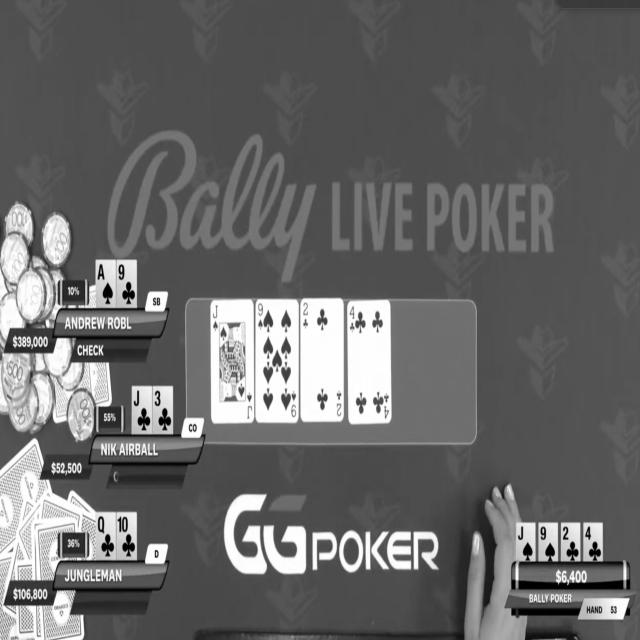10C: (117, 514, 136, 559)
2C: (562, 523, 580, 561)
3C: (154, 387, 172, 433)
4C: (584, 522, 602, 562)
9C: (118, 262, 136, 306)
9S: (539, 523, 558, 561)
AS: (96, 261, 115, 306)
JC: (133, 388, 151, 432)
JS: (516, 523, 534, 562)
QC: (97, 514, 115, 559)
